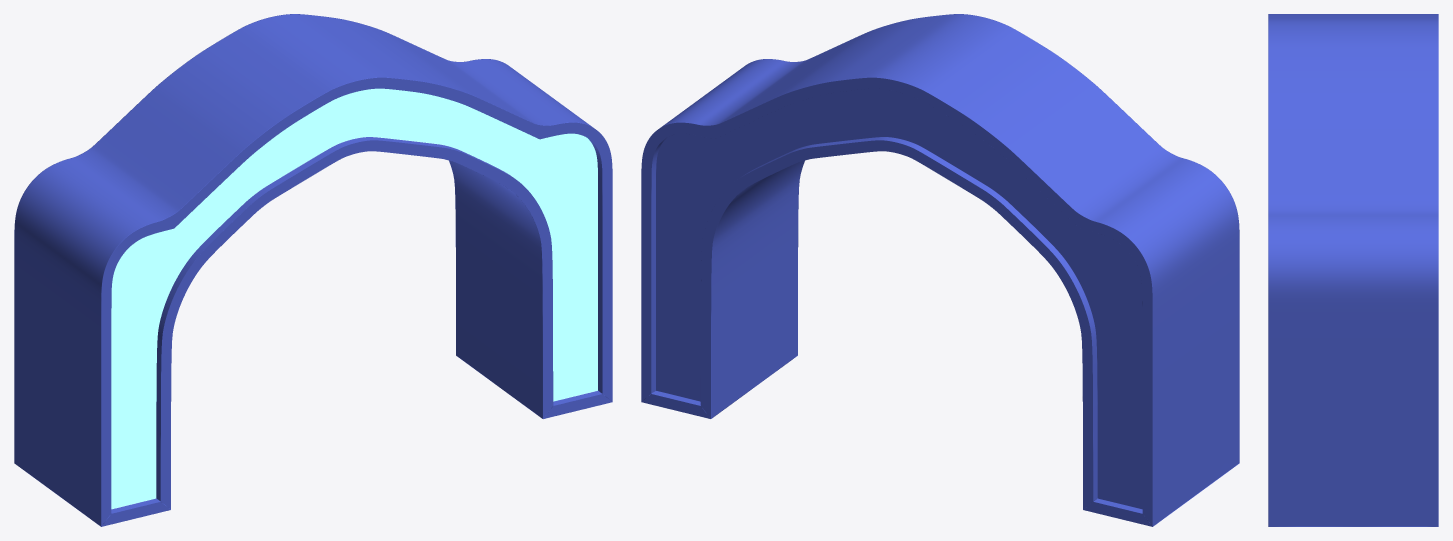
The model's file is bridge test.fbx.
3 views of the same model, side by side, from view 1: azimuth 30°, elevation 25°; view 2: azimuth 150°, elevation 25°; view 3: azimuth 270°, elevation 25° (orthographic). The views are drawn at different scales.
Visible parts, largest first — view 1: Cube; view 2: Cube; view 3: Cube.
Part boxes in pixels (box(x1,y1,x2,y2)): Cube: box(14, 14, 612, 526); Cube: box(641, 14, 1239, 526); Cube: box(1268, 14, 1438, 526).
Size of the model in its own units: 58.91 by 200 by 143.
